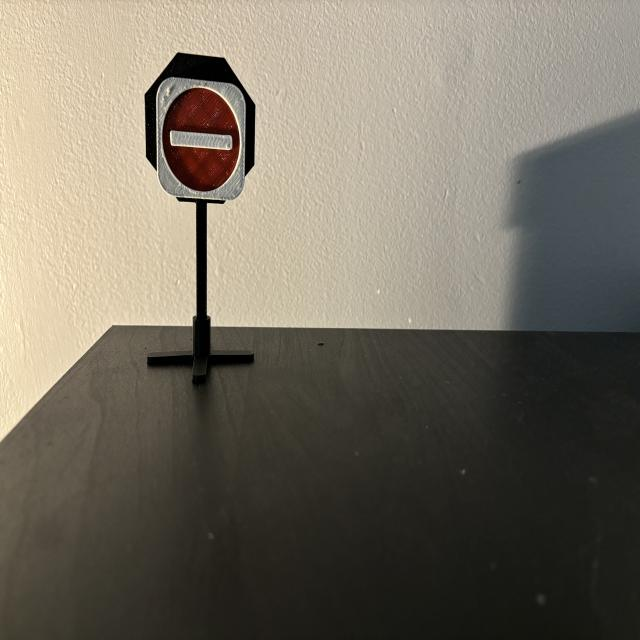sign_noentry: (158, 79, 246, 201)
